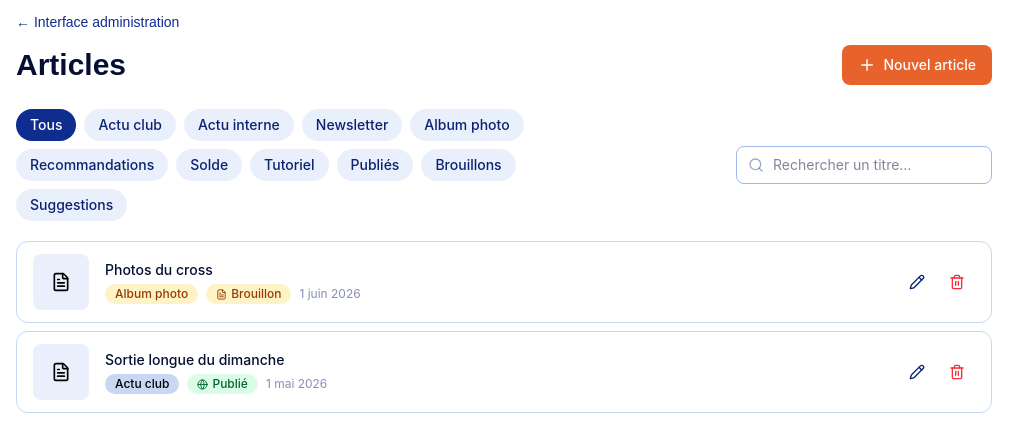
Test: GestionArticles › affiche l'état vide quand rien ne correspond
Expected: the text "Sortie longue du dimanche" is shown, [105, 351, 284, 368]
Type "marathon" into the search field with placeholder "Rechercher un titre…" at (864, 165), box [736, 146, 992, 184]
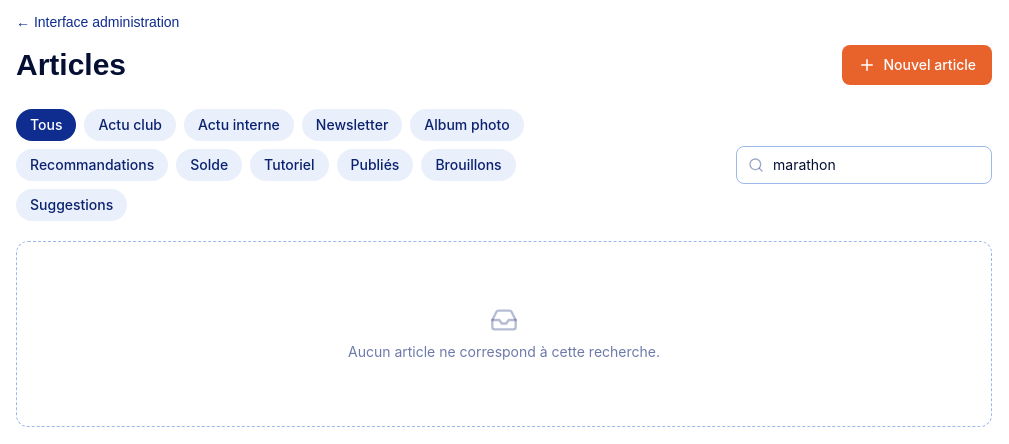
Result: the text "Aucun article ne correspond à cette recherche." is shown at [348, 342, 660, 362]
Result: the list is gone
